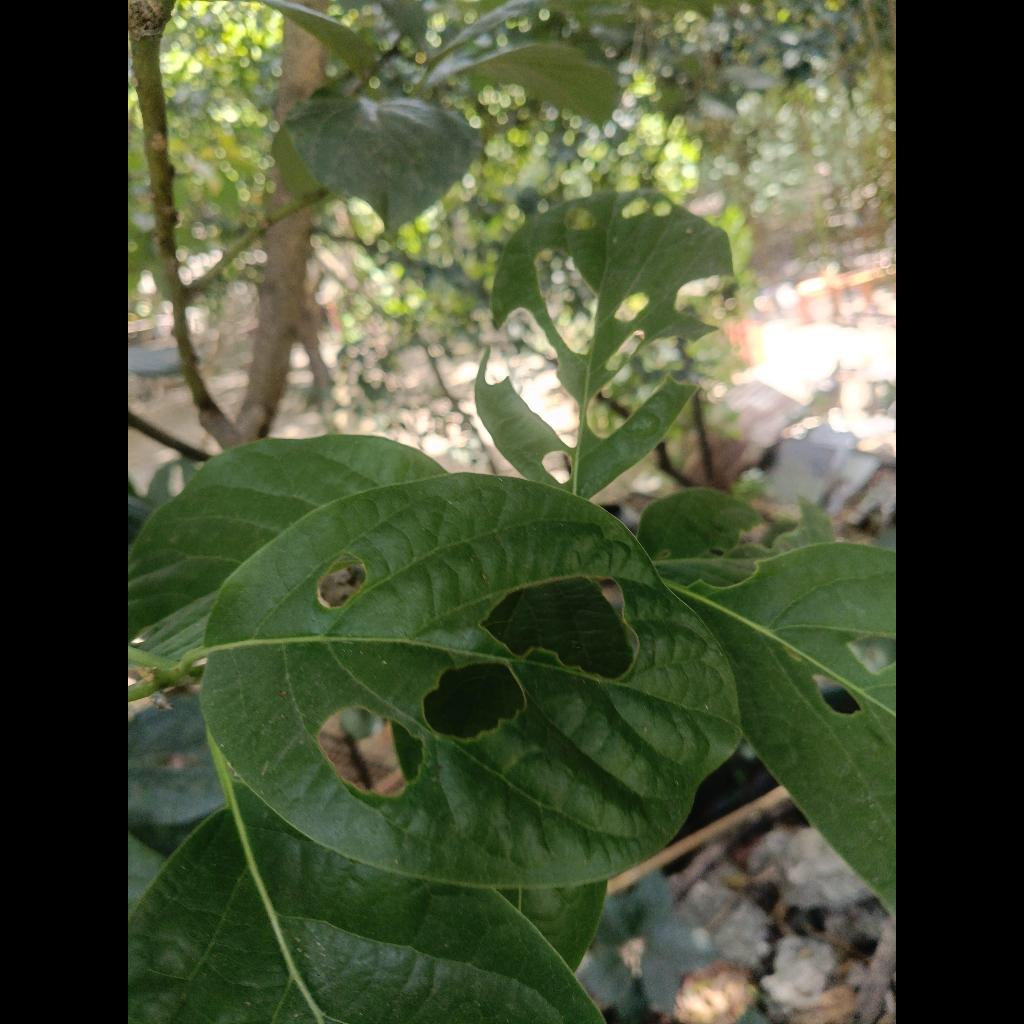plaga: (201, 475, 738, 887)
